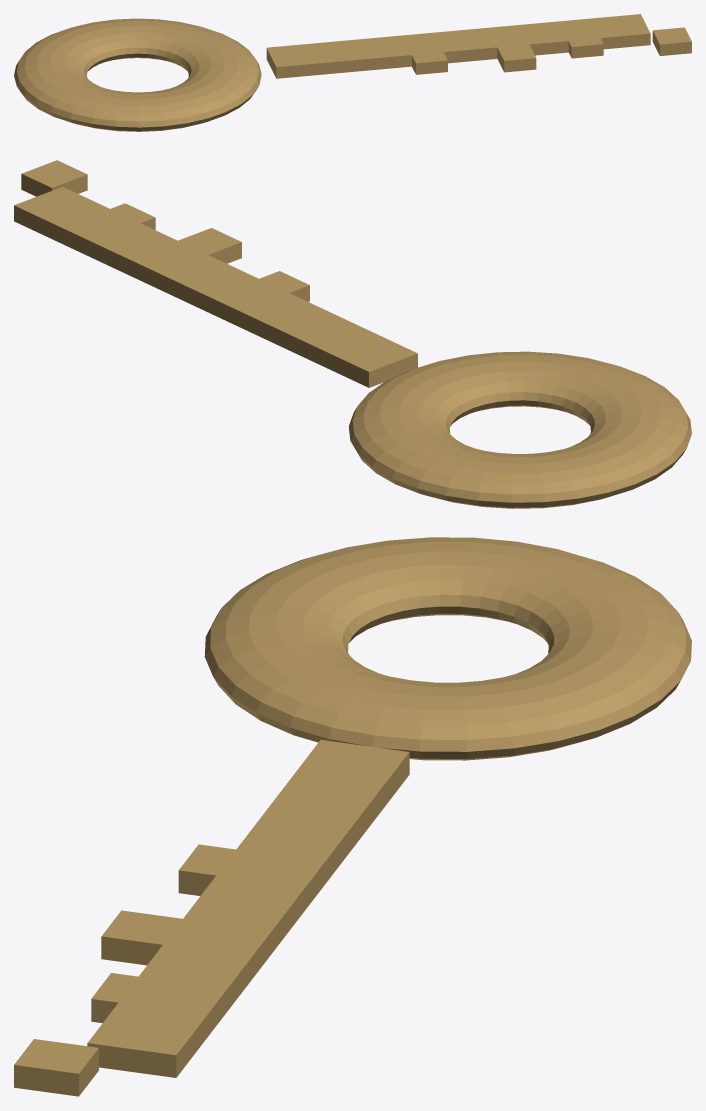
File: car_key.glb
3 views of the same model, one above another, from view 1: azimuth 30°, elevation 25°; view 2: azimuth 150°, elevation 25°; view 3: azimuth 270°, elevation 25° (orthographic). The views are drawn at different scales.
Visible parts, largest first — view 1: key_bow, key_shaft, key_tooth_1, key_tooth_3, key_tooth_0, key_tooth_2; view 2: key_bow, key_shaft, key_tooth_3, key_tooth_1, key_tooth_0, key_tooth_2; view 3: key_bow, key_shaft, key_tooth_3, key_tooth_1, key_tooth_0, key_tooth_2.
Boxes of the visible parts, bbox=[...] form: key_bow: bbox=[14, 18, 261, 131]; key_shaft: bbox=[266, 14, 650, 78]; key_tooth_1: bbox=[496, 41, 536, 72]; key_tooth_3: bbox=[652, 27, 691, 55]; key_tooth_0: bbox=[411, 49, 447, 74]; key_tooth_2: bbox=[567, 35, 603, 58]; key_bow: bbox=[348, 351, 691, 508]; key_shaft: bbox=[14, 187, 417, 387]; key_tooth_3: bbox=[21, 160, 87, 196]; key_tooth_1: bbox=[171, 228, 241, 263]; key_tooth_0: bbox=[256, 271, 309, 301]; key_tooth_2: bbox=[107, 203, 155, 229]; key_bow: bbox=[204, 537, 691, 760]; key_shaft: bbox=[87, 740, 409, 1077]; key_tooth_3: bbox=[14, 1039, 98, 1096]; key_tooth_1: bbox=[101, 910, 196, 965]; key_tooth_0: bbox=[178, 844, 241, 895]; key_tooth_2: bbox=[91, 973, 151, 1023].
Size of the model in its own units: 1.78 by 0.076 by 0.9434.
